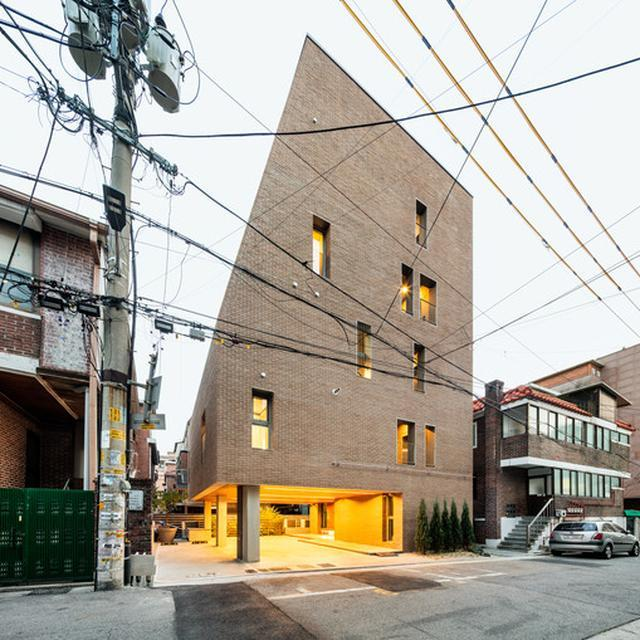building: (202, 32, 474, 567), (0, 178, 159, 571), (471, 357, 640, 552)
